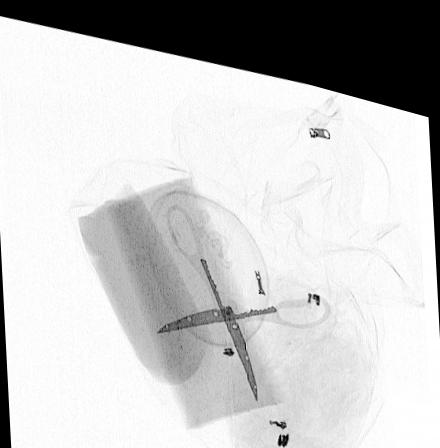Scissors: (154, 193, 332, 387)
